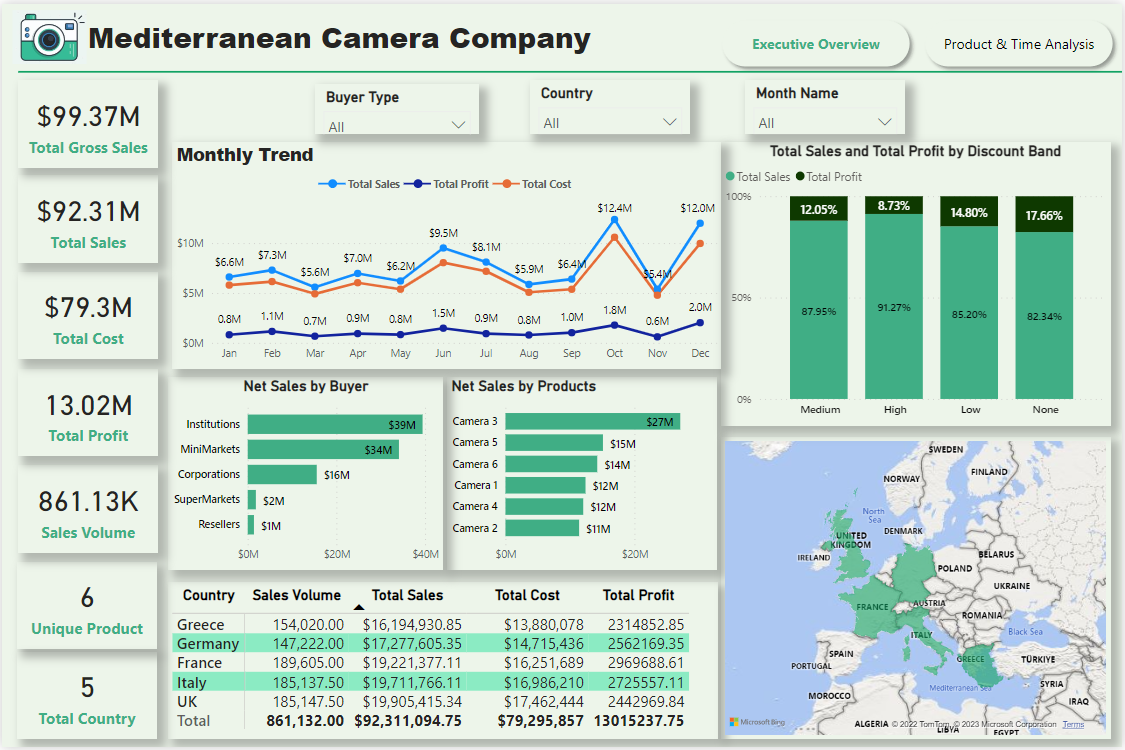

The page's visual inventory and layout, read from the dashboard file:
{"tool":"powerbi","page":{"name":"Executive Overview","canvas":[1280,850],"ordinal":0},"visuals":[{"type":"card","fields":{"Values":["Key Measures.Total Country"]},"box":[16.9,740.4,160.2,99.8],"z":0},{"type":"card","fields":{"Values":["Key Measures.Total Unique Product"]},"box":[16.9,636.4,160.2,99.8],"z":1000},{"type":"image","box":[7,1.4,94.4,73.2],"z":2000},{"type":"textbox","box":[93,9.9,602.8,54.9],"z":3000},{"type":"card","fields":{"Values":["Key Measures.Total Profit"]},"box":[18.3,417.3,160.2,99.8],"z":4000},{"type":"card","fields":{"Values":["Key Measures.Total unit sold"]},"box":[18.3,526.9,160.2,99.8],"z":5000},{"type":"card","fields":{"Values":["Key Measures.Total Gorss Sales"]},"box":[16.9,87.3,160.6,100],"z":6000},{"type":"card","fields":{"Values":["Key Measures.Total Cost"]},"box":[18.3,306.3,160.2,99.8],"z":7000},{"type":"card","fields":{"Values":["Key Measures.Total Sales"]},"box":[18.3,195.3,160.2,99.8],"z":8000},{"type":"pageNavigator","box":[814.9,9.8,465,70.2],"z":9000},{"type":"lineChart","title":"Monthly Trend","fields":{"Y":["Key Measures.Total Sales","Key Measures.Total Profit","Key Measures.Total Cost"],"Category":["Calendar.Month Name(S)"]},"box":[193.9,157.4,628,259.9],"z":11000},{"type":"shape","box":[18.3,64.6,1261.7,26.7],"z":13000},{"type":"slicer","fields":{"Values":["Mediterranean Cameras Company.Buyer Type"]},"box":[356.9,91.3,188.3,57.6],"z":14000},{"type":"slicer","fields":{"Values":["Mediterranean Cameras Company.Country"]},"box":[602.7,87.1,184,61.8],"z":15000},{"type":"slicer","fields":{"Values":["Calendar.Month Name"]},"box":[848.6,87.1,184,61.8],"z":16000},{"type":"barChart","title":"Net Sales by Products","fields":{"Category":["Mediterranean Cameras Company.Product"],"Y":["Key Measures.Total Sales"]},"box":[508.6,425.7,309.1,222],"z":17000},{"type":"barChart","title":"Net Sales by Buyer","fields":{"Category":["Mediterranean Cameras Company.Buyer Type"],"Y":["Key Measures.Total Sales"]},"box":[189.7,425.7,314.7,222],"z":18000},{"type":"pivotTable","fields":{"Rows":["Mediterranean Cameras Company.Country"],"Values":["Key Measures.Sales Volume","Key Measures.Total Sales","Key Measures.Total Cost","Key Measures.Total Profit"]},"box":[189.7,660.3,628,179.8],"z":19000},{"type":"filledMap","fields":{"Category":["Mediterranean Cameras Company.Country"]},"box":[821.9,494.5,445.4,345.6],"z":20000},{"type":"hundredPercentStackedColumnChart","fields":{"Y":["Key Measures.Total Sales","Key Measures.Total Profit"],"Category":["Mediterranean Cameras Company.Discount Band"]},"box":[821.9,157.4,445.4,324.5],"z":21000},{"type":"card","fields":{"Values":["Key Measures.Total Discount"]},"box":[1212.7,177.5,46.5,25.4],"z":21001},{"type":"textbox","box":[1098.6,176.1,123.9,38],"z":21002}]}

Visuals, with their boxes in screenshot pixels (x1, y1, x2, y2), scaled from the page's 1280x850 canvas onto the 1125x750 screenshot:
card - Key Measures.Total Country: 15:653:156:741
card - Key Measures.Total Unique Product: 15:562:156:650
image: 6:1:89:66
textbox: 82:9:612:57
card - Key Measures.Total Profit: 16:368:157:456
card - Key Measures.Total unit sold: 16:465:157:553
card - Key Measures.Total Gorss Sales: 15:77:156:165
card - Key Measures.Total Cost: 16:270:157:358
card - Key Measures.Total Sales: 16:172:157:260
pageNavigator: 716:9:1124:71
"Monthly Trend" lineChart: 170:139:722:368
shape: 16:57:1124:81
slicer - Mediterranean Cameras Company.Buyer Type: 314:81:479:131
slicer - Mediterranean Cameras Company.Country: 530:77:691:131
slicer - Calendar.Month Name: 746:77:908:131
"Net Sales by Products" barChart: 447:376:719:572
"Net Sales by Buyer" barChart: 167:376:443:572
pivotTable - Mediterranean Cameras Company.Country x Key Measures.Sales Volume: 167:583:719:741
filledMap - Mediterranean Cameras Company.Country: 722:436:1114:741
hundredPercentStackedColumnChart - Key Measures.Total Sales x Key Measures.Total Profit: 722:139:1114:425
card - Key Measures.Total Discount: 1066:157:1107:179
textbox: 966:155:1074:189
